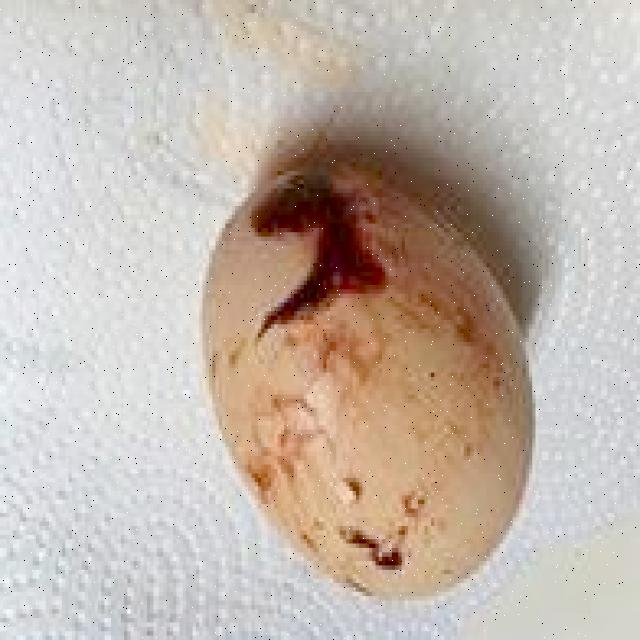Blood Stained Egg: (189, 158, 532, 604)
